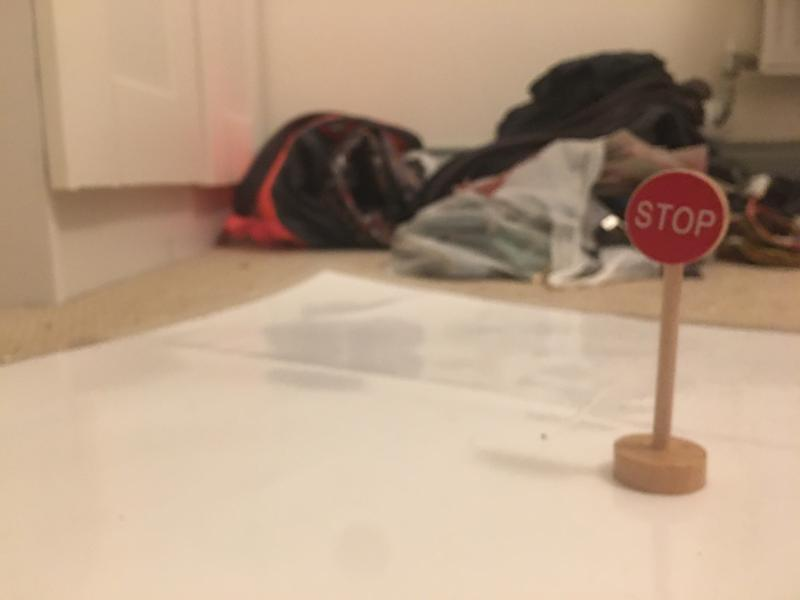Traffic_Sign_Stop: (624, 171, 728, 266)
